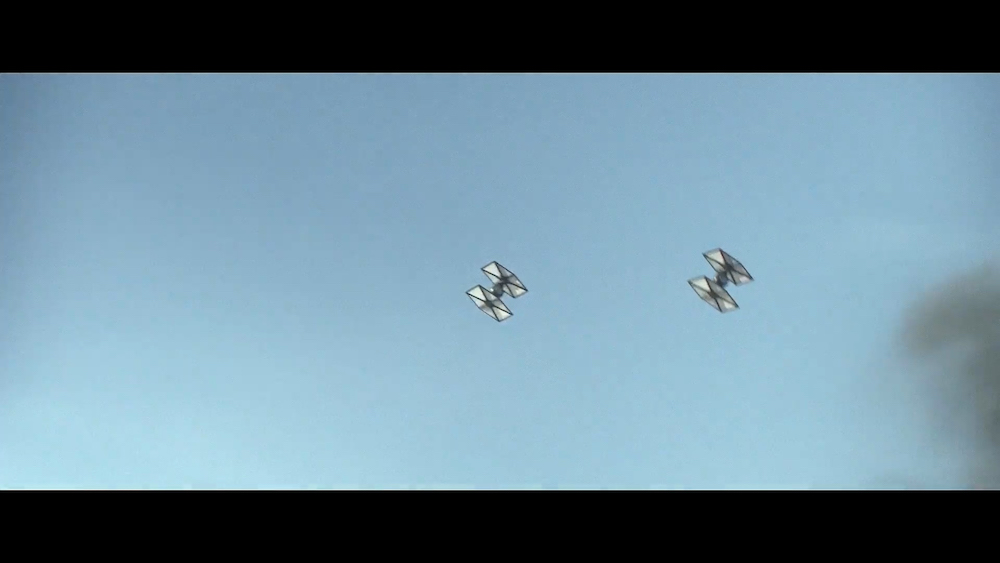Tie Fighter: (688, 250, 754, 314), (466, 261, 529, 323)
